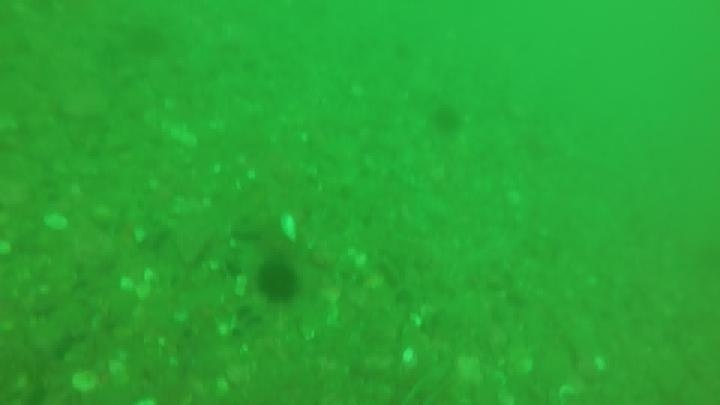echinus: (255, 260, 301, 305), (428, 102, 464, 135)
